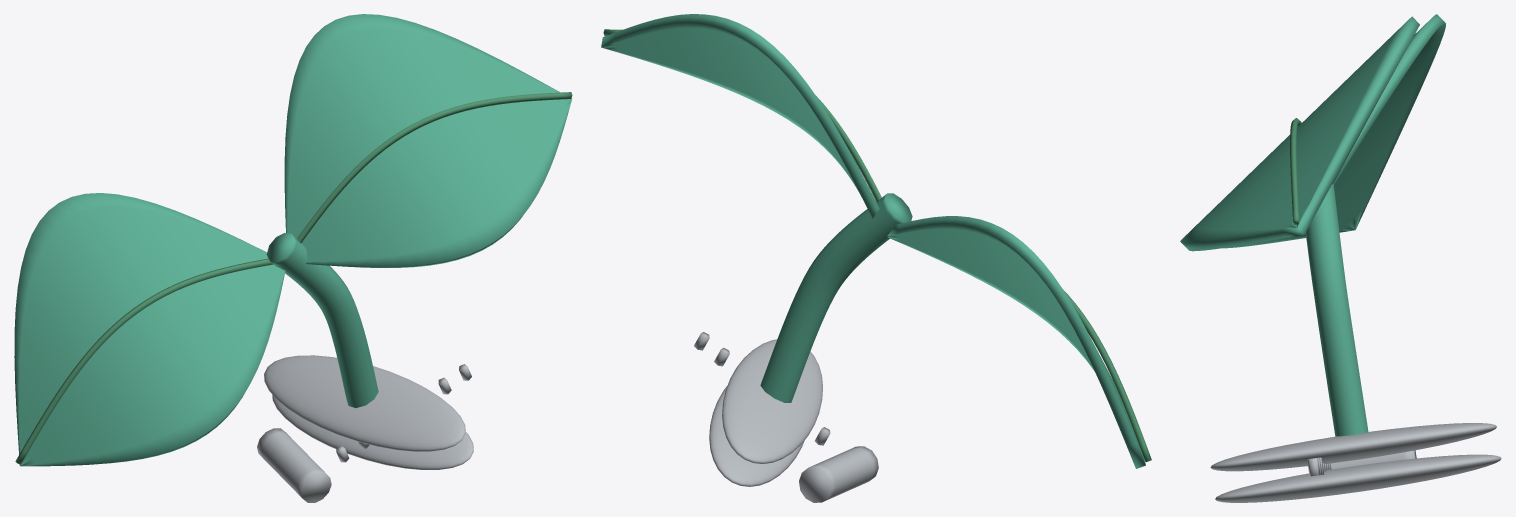
Rendered from Feminine-box-braids-ears260-sprout.glb.
3 views of the same model, side by side, from view 1: azimuth 30°, elevation 25°; view 2: azimuth 150°, elevation 25°; view 3: azimuth 270°, elevation 25° (orthographic). The views are drawn at different scales.
Parts seen in each view (by area): view 1: 226 extra / Accessory / mint226, 226 extra / Sprout / clip silver235, 226 extra / Sprout / leaf vein235; view 2: 226 extra / Accessory / mint226, 226 extra / Sprout / clip silver235, 226 extra / Sprout / leaf vein235; view 3: 226 extra / Accessory / mint226, 226 extra / Sprout / clip silver235, 226 extra / Sprout / leaf vein235.
Part boxes in pixels (x1=…): 226 extra / Accessory / mint226: x1=14, y1=14, x2=571, y2=466; 226 extra / Sprout / clip silver235: x1=257, y1=355, x2=473, y2=502; 226 extra / Sprout / leaf vein235: x1=15, y1=92, x2=572, y2=464; 226 extra / Accessory / mint226: x1=601, y1=14, x2=1145, y2=468; 226 extra / Sprout / clip silver235: x1=694, y1=332, x2=878, y2=502; 226 extra / Sprout / leaf vein235: x1=603, y1=29, x2=1151, y2=462; 226 extra / Accessory / mint226: x1=1180, y1=14, x2=1445, y2=436; 226 extra / Sprout / clip silver235: x1=1210, y1=423, x2=1501, y2=502; 226 extra / Sprout / leaf vein235: x1=1290, y1=118, x2=1301, y2=224.
Size of the model in its own units: 0.2468 by 0.1942 by 0.1106.
